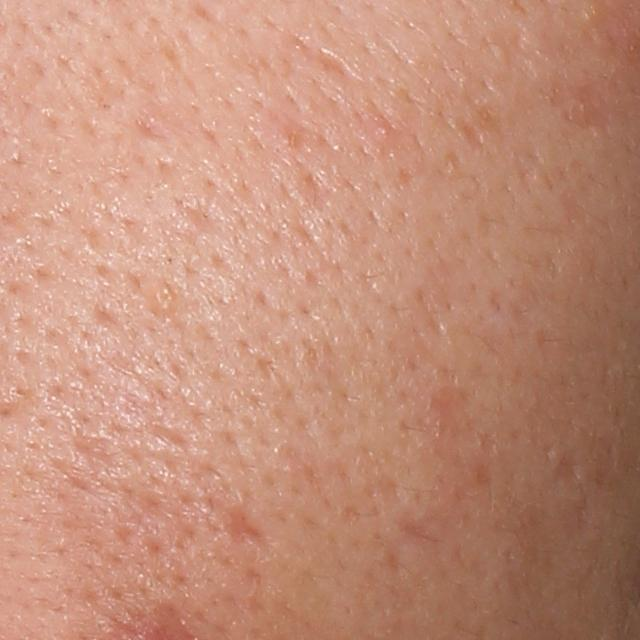atrophic_scar: (223, 503, 272, 552), (551, 446, 581, 487)
comedo: (148, 277, 178, 313)
